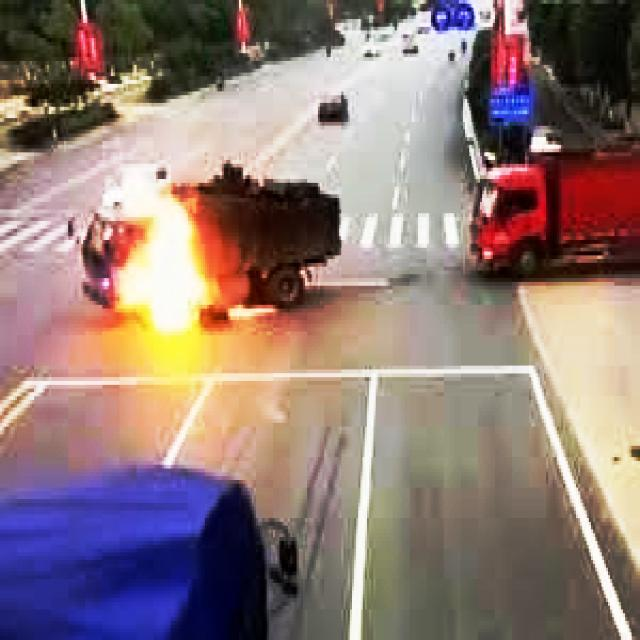api: (97, 176, 231, 359)
